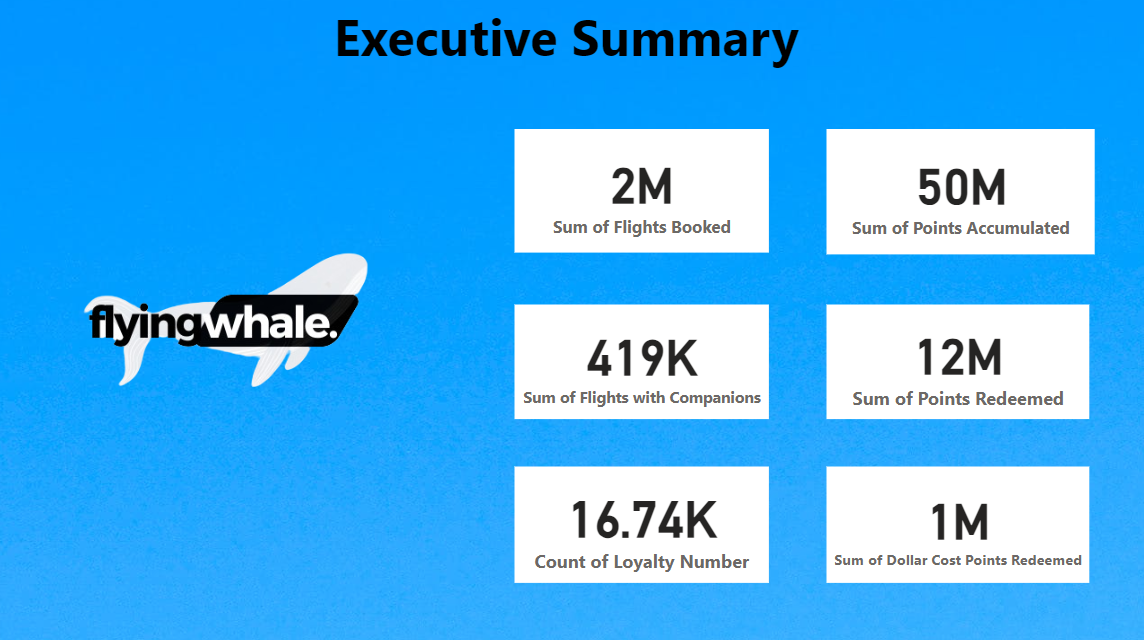

Layout of this report page (visuals, bound fields, positions):
{"tool":"powerbi","page":{"name":"Summary ","canvas":[1280,720],"ordinal":0},"visuals":[{"type":"image","box":[0,0,508.1,719.4],"z":0},{"type":"textbox","box":[0,0,1280.6,183.9],"z":1000},{"type":"card","fields":{"Values":["Sum(Customer Flight Activity.Flights Booked)"]},"box":[574.5,147.1,282.4,137.3],"z":2000},{"type":"card","fields":{"Values":["Sum(Customer Flight Activity.Flights with Companions)"]},"box":[574.5,341.2,282.4,127.5],"z":3000},{"type":"card","fields":{"Values":["Count(Customer Flight Activity.Loyalty Number)"]},"box":[574.5,521.6,282.4,129.4],"z":4000},{"type":"card","fields":{"Values":["Sum(Customer Flight Activity.Dollar Cost Points Redeemed)"]},"box":[921.6,521.6,292.2,129.4],"z":5000},{"type":"card","fields":{"Values":["Sum(Customer Flight Activity.Points Redeemed)"]},"box":[921.6,341.2,292.2,127.5],"z":6000},{"type":"card","fields":{"Values":["Sum(Customer Flight Activity.Points Accumulated)"]},"box":[921.6,147.1,298,139.2],"z":7000}]}

Visuals, with their boxes in screenshot pixels (x1, y1, x2, y2), scaled from the page's 1280x720 canvas onto the 1144x640 screenshot:
image: 0,0,454,639
textbox: 0,0,1143,163
card - Sum(Customer Flight Activity.Flights Booked): 513,131,766,253
card - Sum(Customer Flight Activity.Flights with Companions): 513,303,766,417
card - Count(Customer Flight Activity.Loyalty Number): 513,464,766,579
card - Sum(Customer Flight Activity.Dollar Cost Points Redeemed): 824,464,1085,579
card - Sum(Customer Flight Activity.Points Redeemed): 824,303,1085,417
card - Sum(Customer Flight Activity.Points Accumulated): 824,131,1090,254
